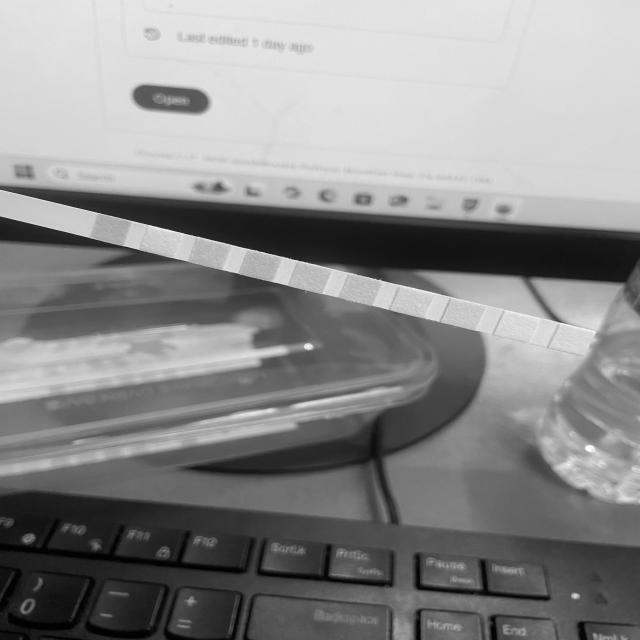Bilirubin: (146, 233, 176, 252)
Blood: (296, 268, 324, 289)
Glucose: (97, 220, 126, 240)
Ketone: (195, 244, 224, 264)
Leukocytes: (558, 329, 588, 350)
Nitrite: (502, 317, 532, 336)
Protein: (397, 291, 427, 312)
SpGravity: (245, 255, 275, 275)
Urobilinogen: (449, 303, 477, 325)
background: (0, 0, 640, 640)
pH: (346, 280, 375, 300)
strip: (0, 190, 597, 356)
